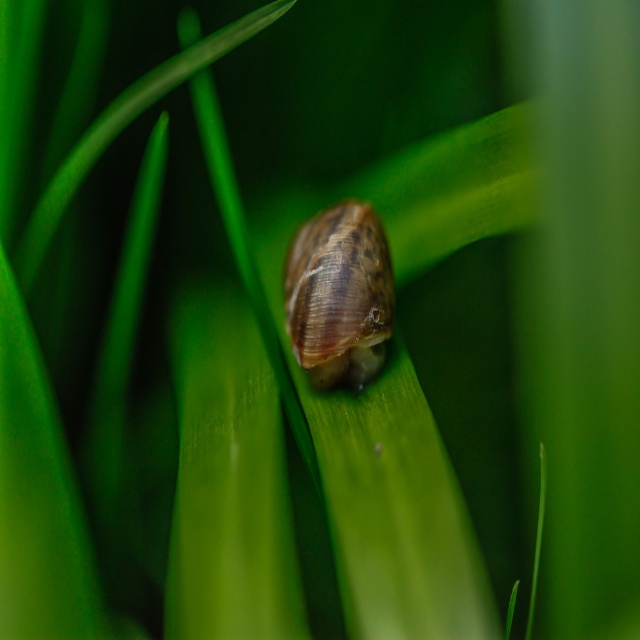Snail: (276, 194, 398, 388)
